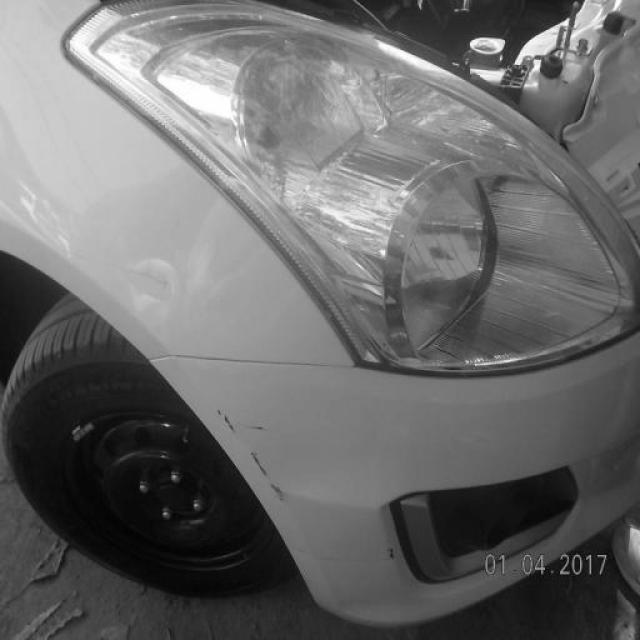scratch: (213, 404, 290, 514)
